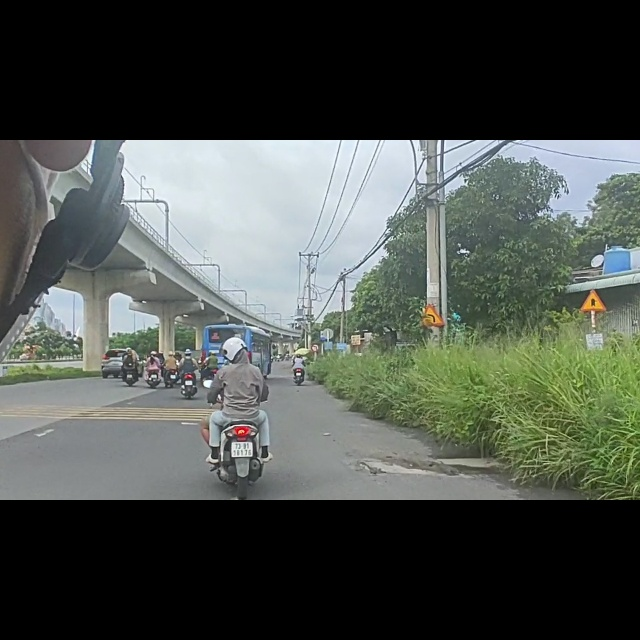bien_cam: (580, 264, 608, 305), (419, 289, 445, 332), (319, 337, 329, 357), (310, 363, 321, 377)
